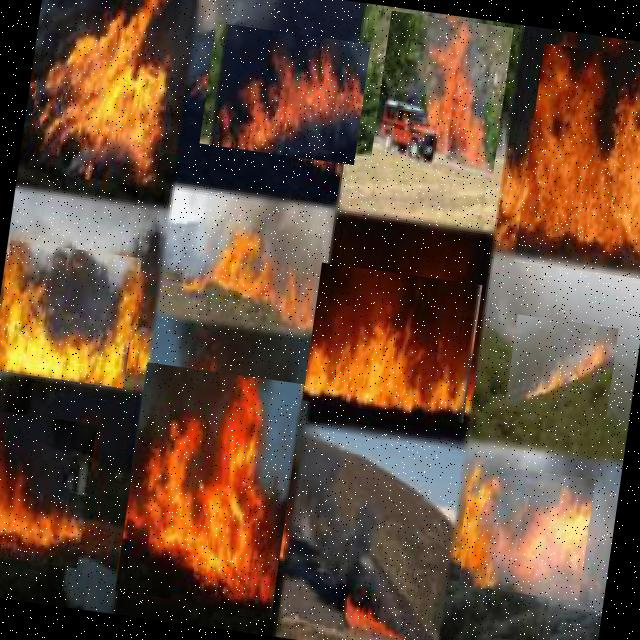fire: (115, 362, 304, 614), (514, 43, 640, 279), (25, 0, 183, 188), (302, 263, 482, 423), (370, 11, 514, 183), (200, 22, 370, 166), (0, 240, 142, 388), (172, 216, 322, 354), (458, 463, 596, 602), (0, 409, 97, 568), (504, 314, 618, 424), (340, 586, 411, 640)
